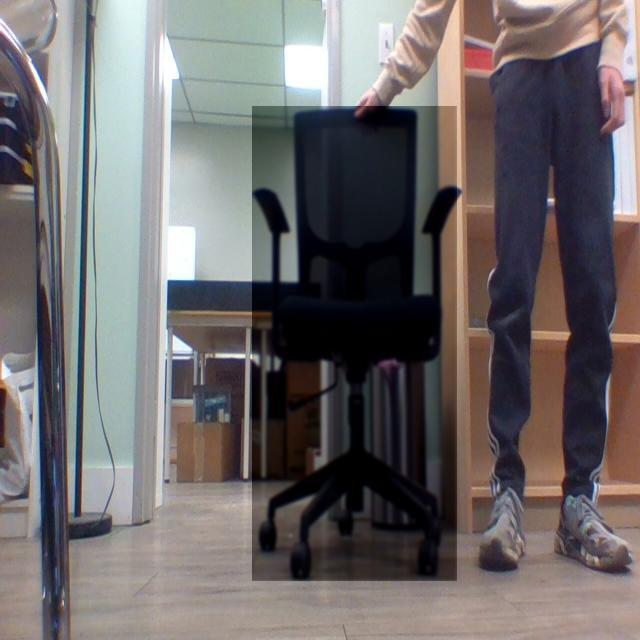chair: (249, 101, 464, 581)
